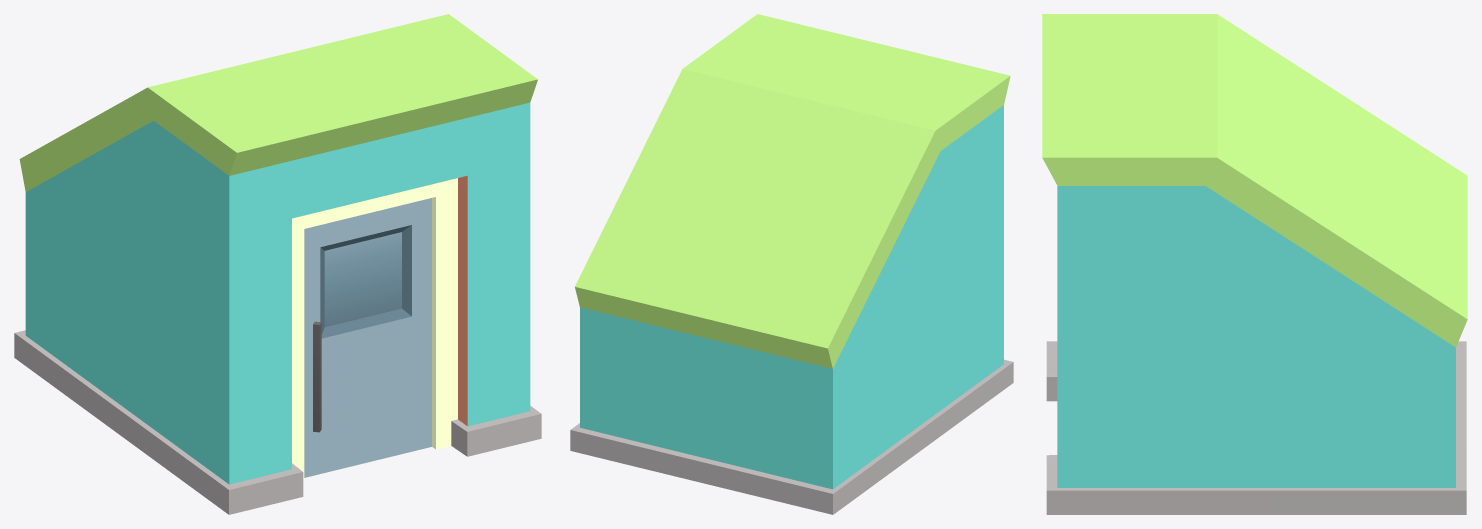
Rendered from Rooftop_Door_02.glb.
The picture shows the model from 3 angles, left to right: view 1: azimuth 30°, elevation 25°; view 2: azimuth 150°, elevation 25°; view 3: azimuth 270°, elevation 25°; orthographic projection. The views are drawn at different scales.
Parts seen in each view (by area): view 1: Rooftop_Door_02; view 2: Rooftop_Door_02; view 3: Rooftop_Door_02.
Boxes of the visible parts, left/top/right/bottom form: Rooftop_Door_02: left=14, top=14, right=541, bottom=514; Rooftop_Door_02: left=570, top=14, right=1013, bottom=514; Rooftop_Door_02: left=1042, top=14, right=1467, bottom=514.
Bounding box in the file's own units: 2.85 × 3.15 × 3.43.
Materials: 1 (1 with a texture image).
